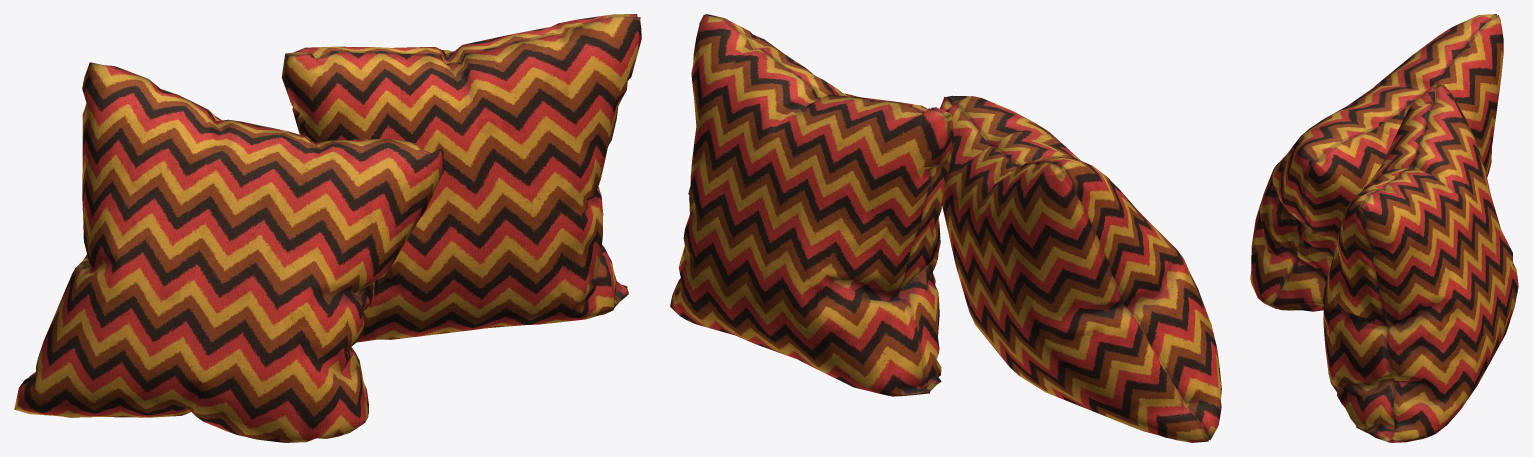
File: throw_pillows_01_1k.gltf
3 views of the same model, side by side, from view 1: azimuth 30°, elevation 25°; view 2: azimuth 150°, elevation 25°; view 3: azimuth 270°, elevation 25° (orthographic). The views are drawn at different scales.
Visible parts, largest first — view 1: throw_pillows_01_pillow01, throw_pillows_01_pillow02; view 2: throw_pillows_01_pillow02, throw_pillows_01_pillow01; view 3: throw_pillows_01_pillow02, throw_pillows_01_pillow01.
Part boxes in pixels (x1=…): throw_pillows_01_pillow01: x1=14, y1=62, x2=443, y2=442; throw_pillows_01_pillow02: x1=281, y1=14, x2=641, y2=342; throw_pillows_01_pillow02: x1=670, y1=14, x2=953, y2=396; throw_pillows_01_pillow01: x1=940, y1=95, x2=1221, y2=442; throw_pillows_01_pillow02: x1=1323, y1=84, x2=1518, y2=442; throw_pillows_01_pillow01: x1=1250, y1=14, x2=1503, y2=311.
Bounding box in the file's own units: 0.9401 × 0.4501 × 0.4519.
Materials: 1 (1 with a texture image).
